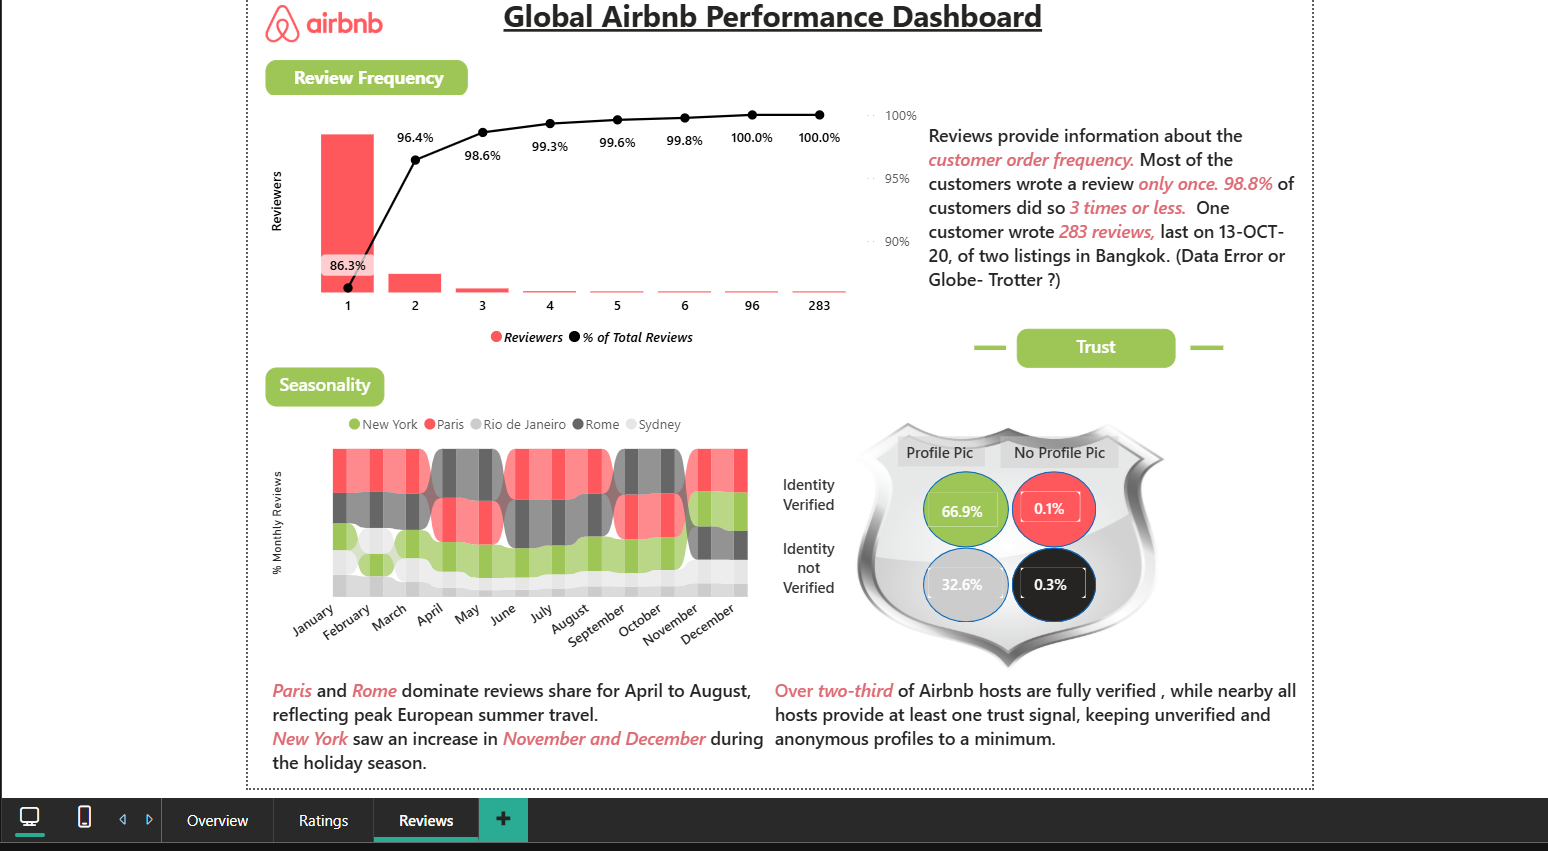

This screenshot's page, from the dashboard's own definition file:
{"tool":"powerbi","page":{"name":"Reviews","canvas":[960,720],"ordinal":2},"visuals":[{"type":"textbox","box":[225.2,0,506.3,47.3],"z":0},{"type":"image","box":[16.2,13.7,105.7,33.6],"z":1000},{"type":"textbox","box":[15.8,62,182.6,32.7],"z":2000},{"type":"textbox","box":[608.8,115,351.2,165],"z":3000},{"type":"lineStackedColumnComboChart","fields":{"Category":["Reviews.Reviews per reviewer"],"Y2":["Reviews.Cumalative % review freq"],"Y":["Reviews.Reviewers"]},"box":[16.9,94.7,591.7,229.9],"z":5000},{"type":"image","box":[470,313.3,490.3,302.1],"z":6000},{"type":"textbox","box":[638.2,289.8,143.1,34.8],"z":7000},{"type":"shape","box":[604.6,289.8,28.6,29.9],"z":8000},{"type":"shape","box":[784.9,292.3,29.9,29.9],"z":9000},{"type":"shape","box":[715.7,415.9,83.4,55.2],"z":10000},{"type":"shape","box":[635.7,470,77.8,57.5],"z":11000},{"type":"shape","box":[633.4,415.9,77.8,57.5],"z":12000},{"type":"shape","box":[720.2,468.9,76.6,58.6],"z":13000},{"type":"textbox","box":[703.3,387.7,105.9,29.3],"z":14000},{"type":"textbox","box":[624.4,387.7,78.9,28.2],"z":15000},{"type":"textbox","box":[504.9,420.4,71,45.1],"z":16000},{"type":"textbox","box":[506.1,473.4,71,64.2],"z":17000},{"type":"cardVisual","fields":{"Data":["Listings.Verfied %"]},"box":[636.8,426.1,74.4,33.8],"z":18000},{"type":"cardVisual","fields":{"Data":["Listings.Verfied_NotProfile %"]},"box":[731.5,422.7,64.2,37.2],"z":19000},{"type":"cardVisual","fields":{"Data":["Listings.NotVerified_NotProfile %"]},"box":[724.7,480.2,68.8,37.2],"z":20000},{"type":"cardVisual","fields":{"Data":["Listings.NotVerified_Profile %"]},"box":[637.9,481.3,77.8,37.2],"z":21000},{"type":"ribbonChart","fields":{"Y":["Reviews.% monthly reviews"],"Series":["Listings.city"],"Category":["Reviews.date.Variation.Date Hierarchy.Month"]},"box":[16.2,368.2,452.8,247.5],"z":22000},{"type":"textbox","box":[470,615,490,105],"z":23000},{"type":"textbox","box":[16.7,615.6,453.3,104.4],"z":24000},{"type":"textbox","box":[16.9,331.4,108.2,34.9],"z":25000}]}

Visuals, with their boxes on the page's 960x720 design canvas (x1, y1, x2, y2). These are canvas units, not pixel positions in the 1548x851 screenshot, which may show the page scaled, cropped or inside an application window:
textbox: box=[225, 0, 732, 47]
image: box=[16, 14, 122, 47]
textbox: box=[16, 62, 198, 95]
textbox: box=[609, 115, 960, 280]
lineStackedColumnComboChart - Reviews.Reviews per reviewer x Reviews.Cumalative % review freq: box=[17, 95, 609, 325]
image: box=[470, 313, 960, 615]
textbox: box=[638, 290, 781, 325]
shape: box=[605, 290, 633, 320]
shape: box=[785, 292, 815, 322]
shape: box=[716, 416, 799, 471]
shape: box=[636, 470, 714, 528]
shape: box=[633, 416, 711, 473]
shape: box=[720, 469, 797, 528]
textbox: box=[703, 388, 809, 417]
textbox: box=[624, 388, 703, 416]
textbox: box=[505, 420, 576, 466]
textbox: box=[506, 473, 577, 538]
cardVisual - Listings.Verfied %: box=[637, 426, 711, 460]
cardVisual - Listings.Verfied_NotProfile %: box=[732, 423, 796, 460]
cardVisual - Listings.NotVerified_NotProfile %: box=[725, 480, 794, 517]
cardVisual - Listings.NotVerified_Profile %: box=[638, 481, 716, 518]
ribbonChart - Reviews.% monthly reviews x Listings.city: box=[16, 368, 469, 616]
textbox: box=[470, 615, 960, 720]
textbox: box=[17, 616, 470, 720]
textbox: box=[17, 331, 125, 366]
